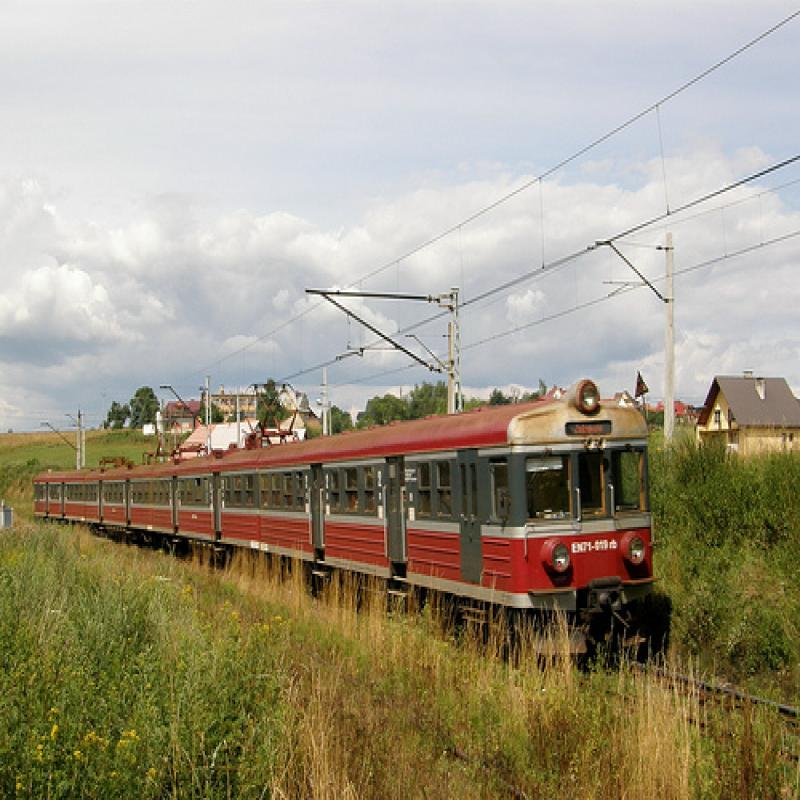train: (32, 381, 664, 664)
